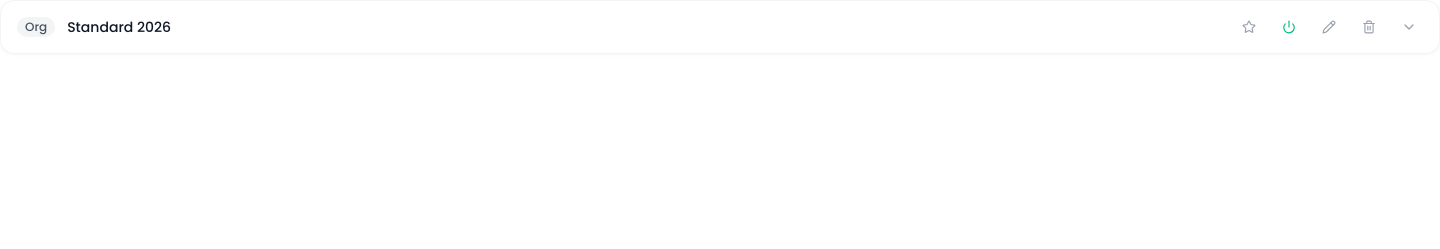
Test: PriceListCard › shows the empty items state when expanded with no items
The width and height of the screenshot is (1440, 249).
Click the button named "Expand".
click(1409, 27)  # box [1395,13,1423,41]
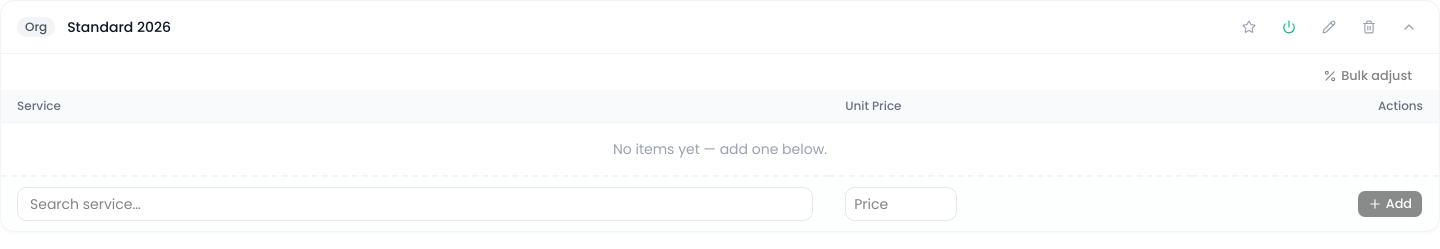
Result: the text "No items yet — add one below." is shown at [1,122,1439,176]
